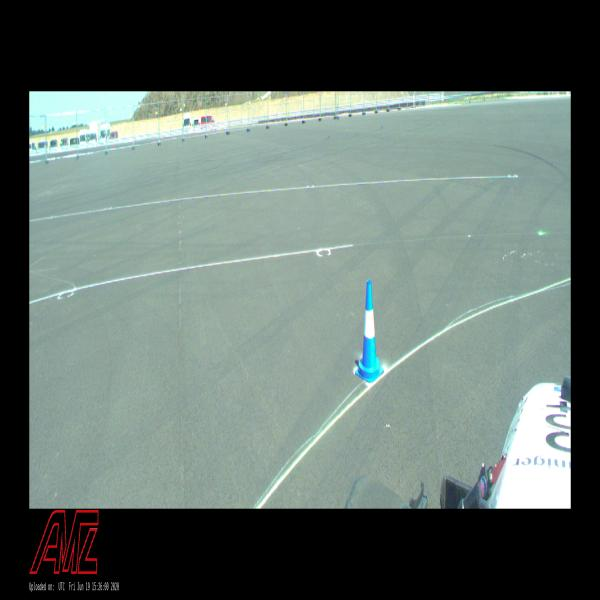blue_cone: (355, 280, 384, 383)
